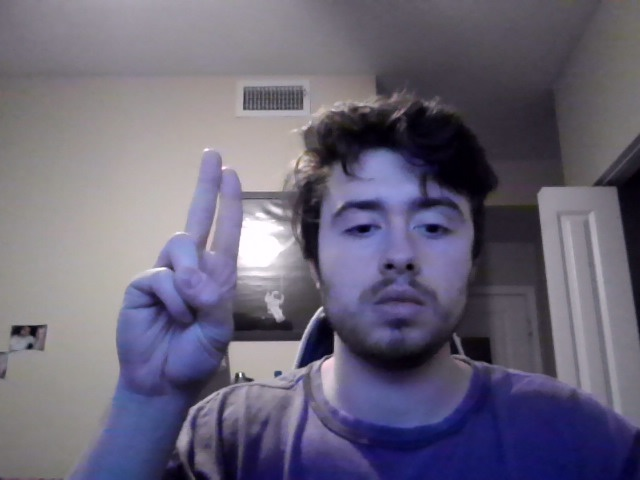u: (115, 148, 244, 427)
